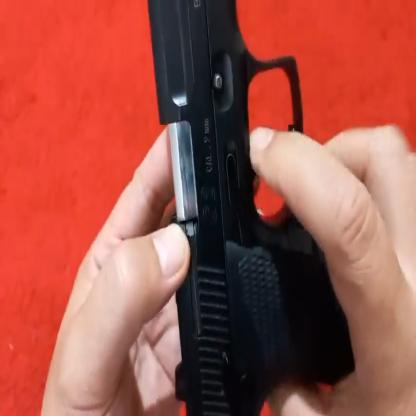handgun: (142, 0, 355, 412)
